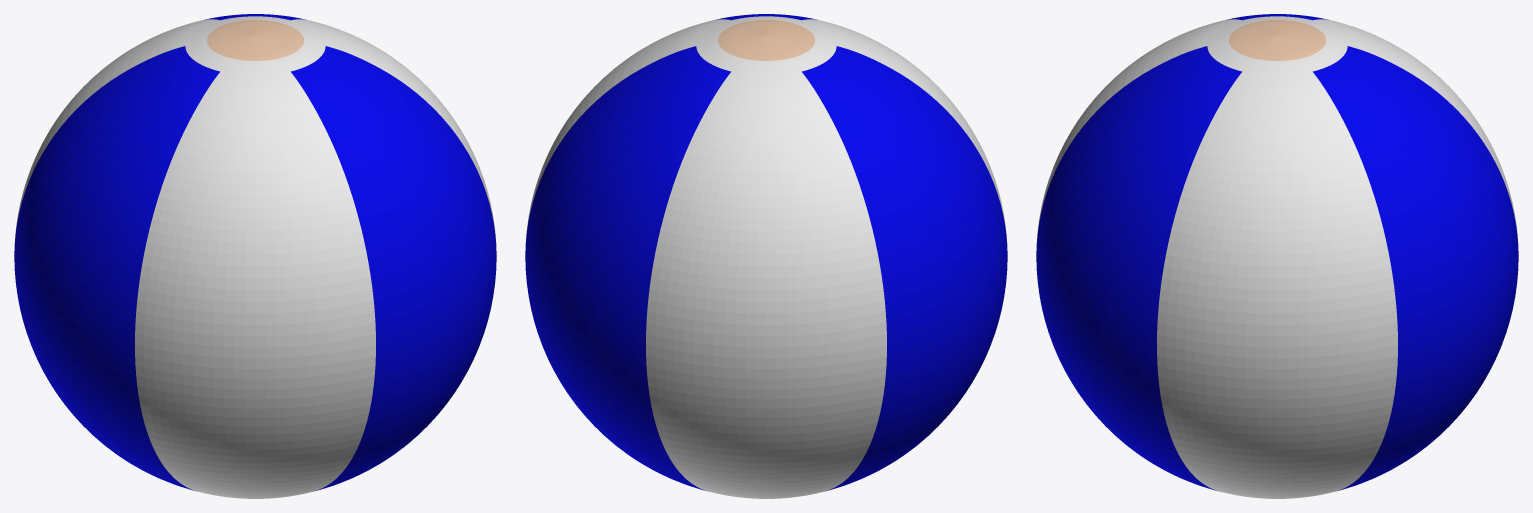
Rendered from beachBall_blue.glb.
3 views of the same model, side by side, from view 1: azimuth 30°, elevation 25°; view 2: azimuth 150°, elevation 25°; view 3: azimuth 270°, elevation 25° (orthographic).
Visible parts, largest first — view 1: Sphere; view 2: Sphere; view 3: Sphere.
Part boxes in pixels (bbox=[...]): Sphere: bbox=[14, 14, 496, 498]; Sphere: bbox=[525, 14, 1007, 498]; Sphere: bbox=[1036, 14, 1518, 498].
Bounding box in the file's own units: 1.98 × 2 × 1.98.
